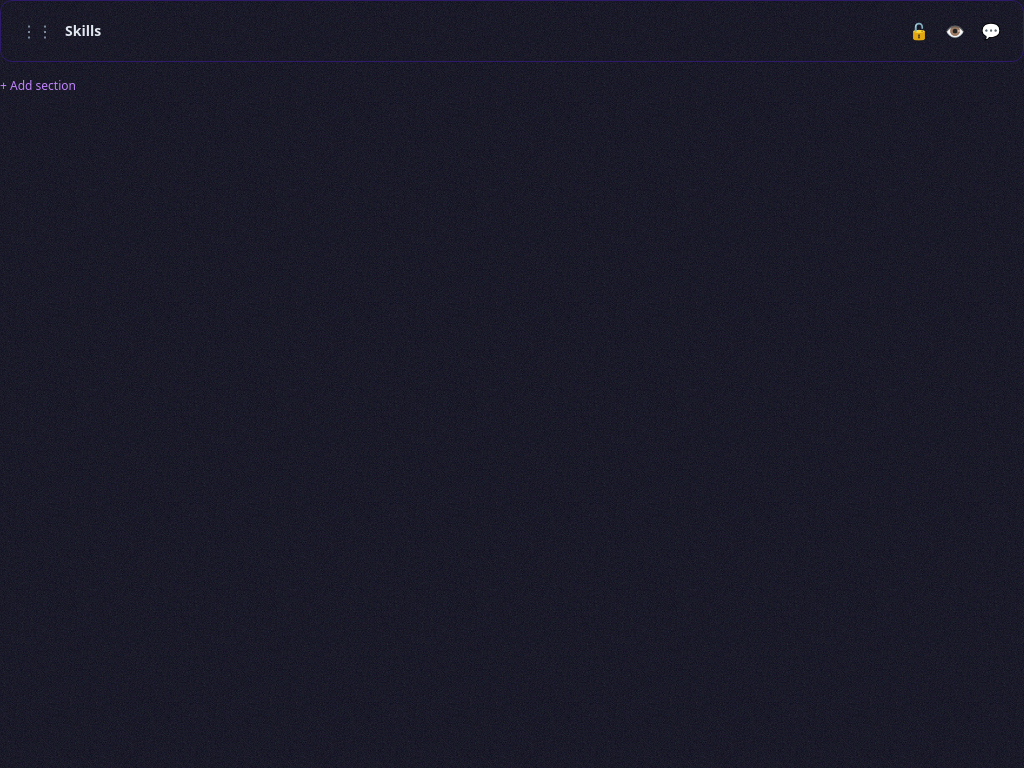
Test case: ProfileTreeEditor › reverting an edit to its original value hides the bar (effective change)
Click the text "Skills".
click(83, 31)  # box [65,21,101,41]
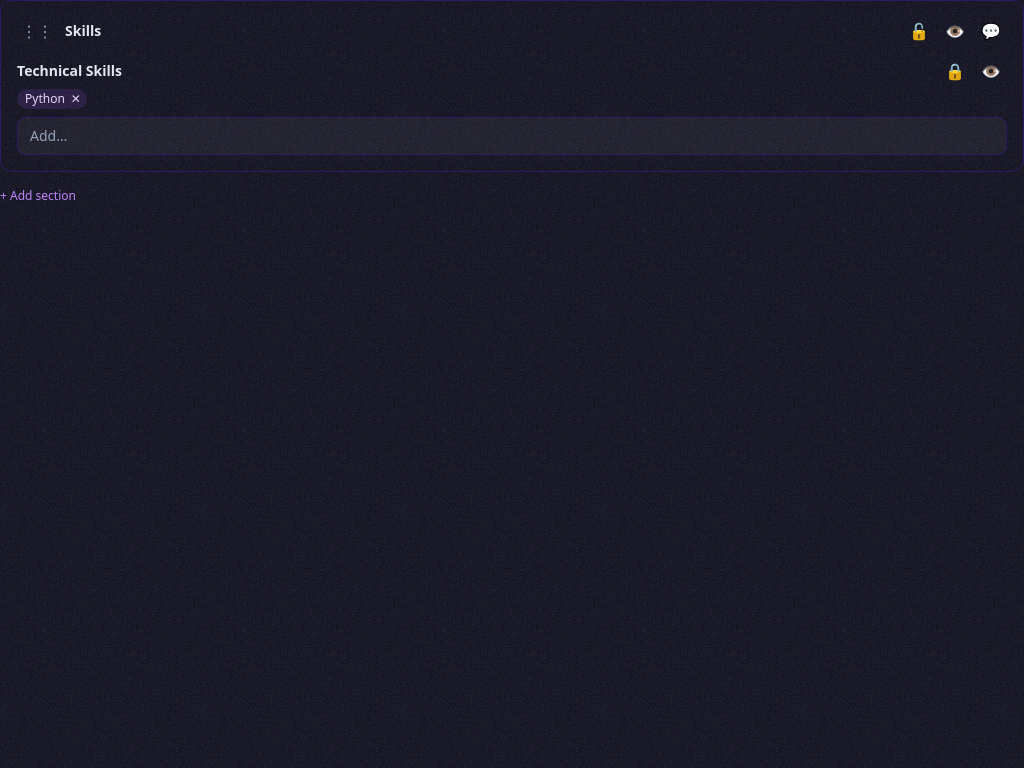
Click the button named "Hide section".
click(955, 31)  # box [939,17,971,45]
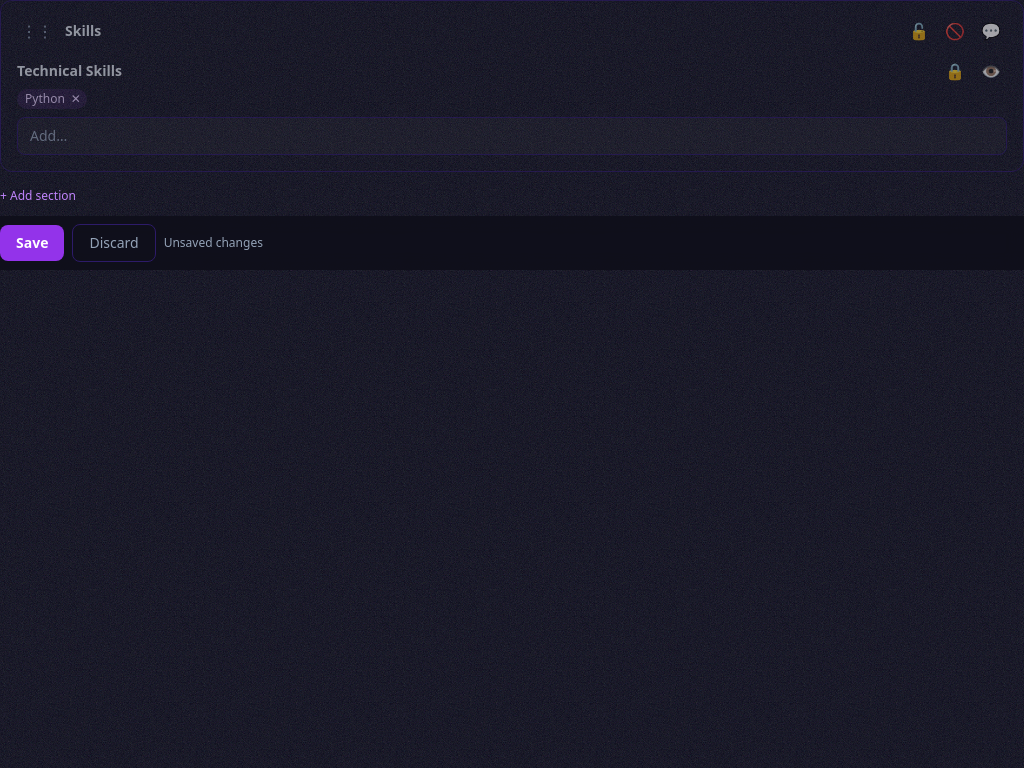
Now the button "Save" is shown, box [0,225,64,261]
Click the button named "Show section".
click(955, 31)  # box [939,17,971,45]
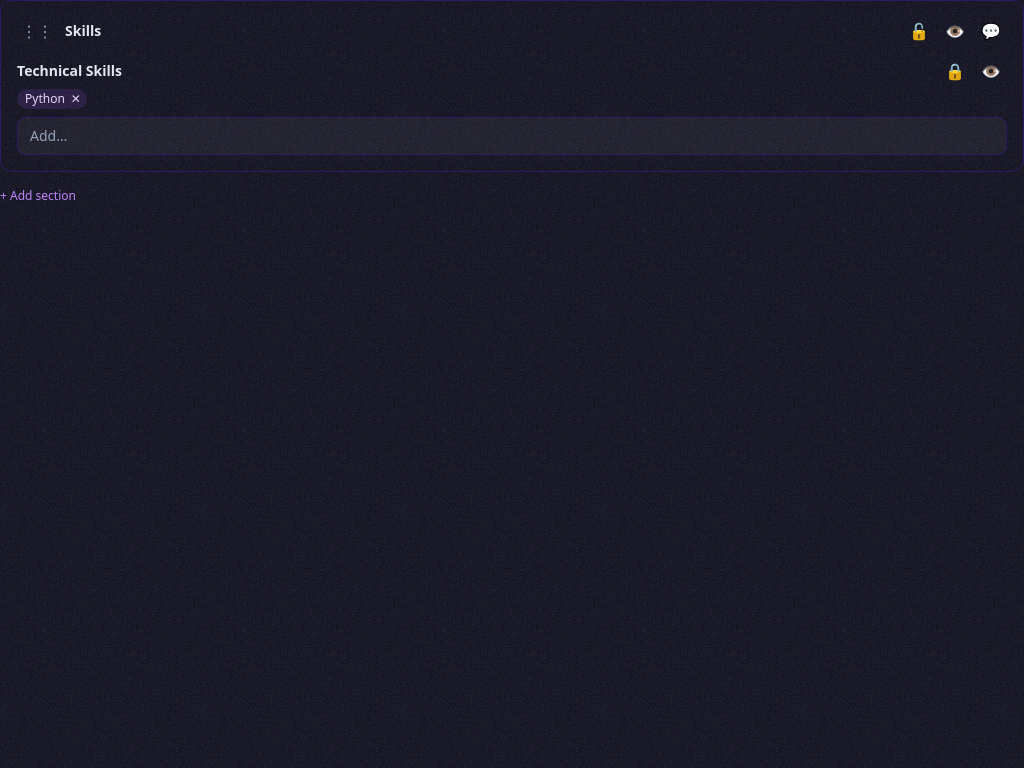
Now the button "Save" is gone
